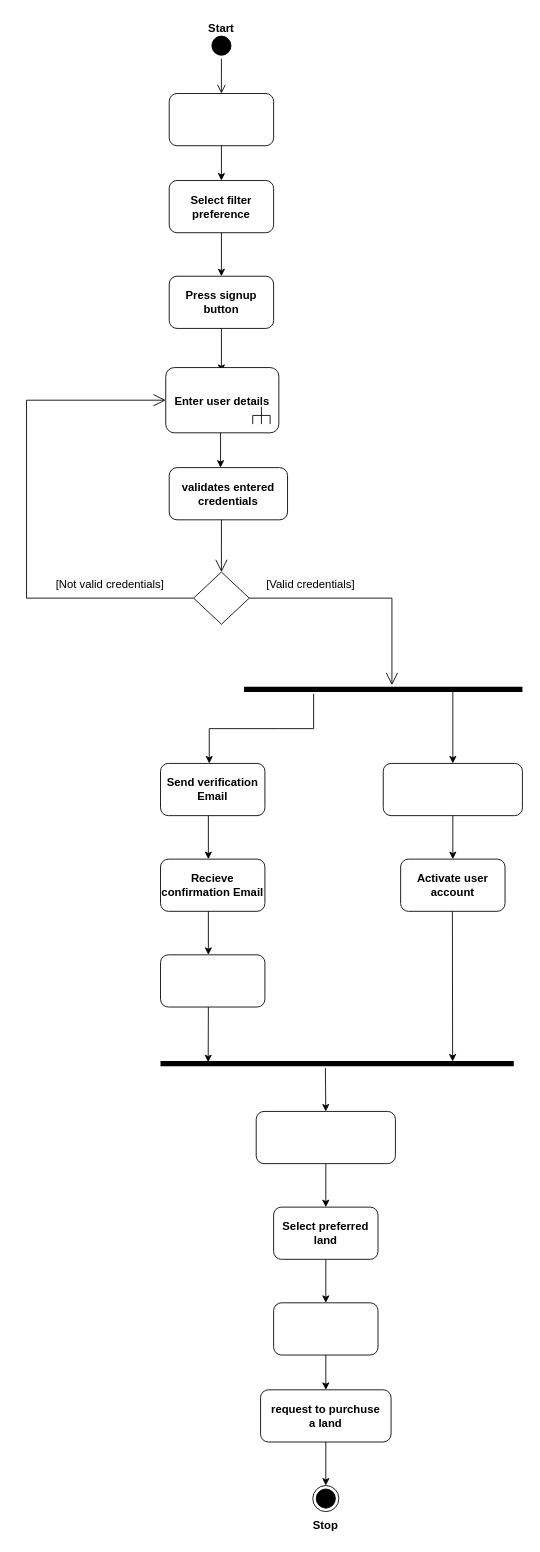
The diagram is 540 pixels wide and 1552 high, and some of its shapes have lost their labels. The shapes that lost their labels are listed below. From the top down, each one's centre as x and y in pixels, then its label:
point 221,119: display homepage
point 452,789: Update user information in a secured database
point 212,980: Press confirmation
point 325,1137: Navigate to "All Lands" page
point 325,1328: Display land details
